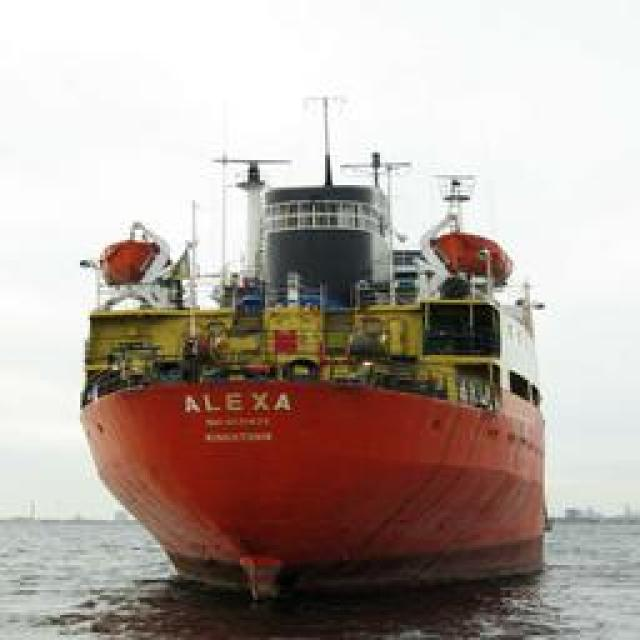CIV_Ship: (84, 168, 552, 608)
